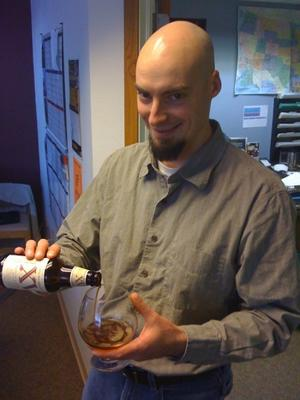person: (14, 21, 298, 400)
